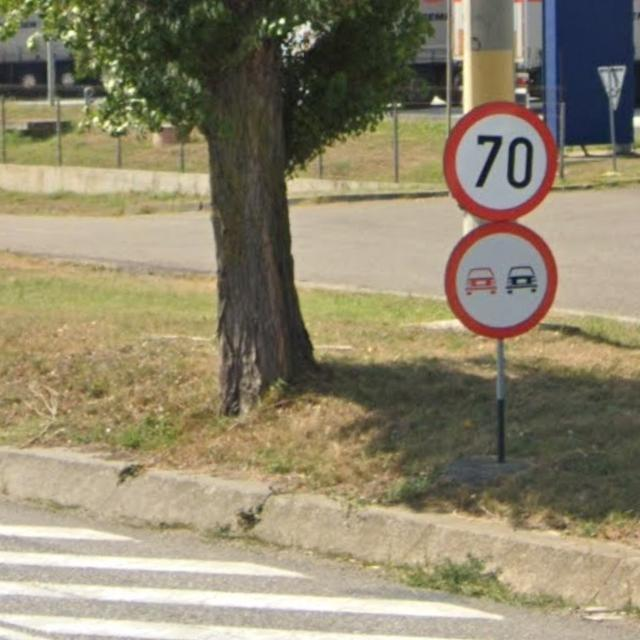forb_overtake: (445, 221, 561, 339)
forb_speed_over_70: (443, 101, 560, 225)
